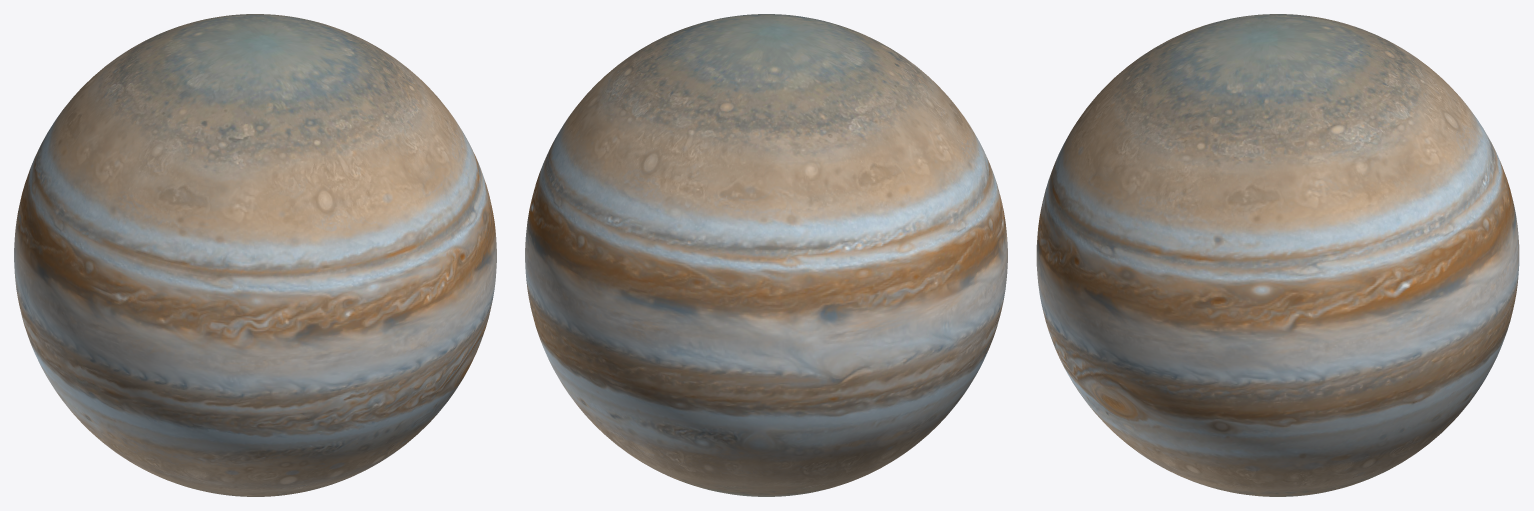
File: Jupiter.glb
The picture shows the model from 3 angles, left to right: view 1: azimuth 30°, elevation 25°; view 2: azimuth 150°, elevation 25°; view 3: azimuth 270°, elevation 25°; orthographic projection.
Visible parts, largest first — view 1: Jupiter; view 2: Jupiter; view 3: Jupiter.
Boxes of the visible parts, box(x1,y1,x2,y2) form: Jupiter: box(14, 14, 496, 496); Jupiter: box(525, 14, 1007, 496); Jupiter: box(1036, 14, 1519, 496).
Size of the model in its own units: 2 by 2 by 2.
1 material, 1 textured.
